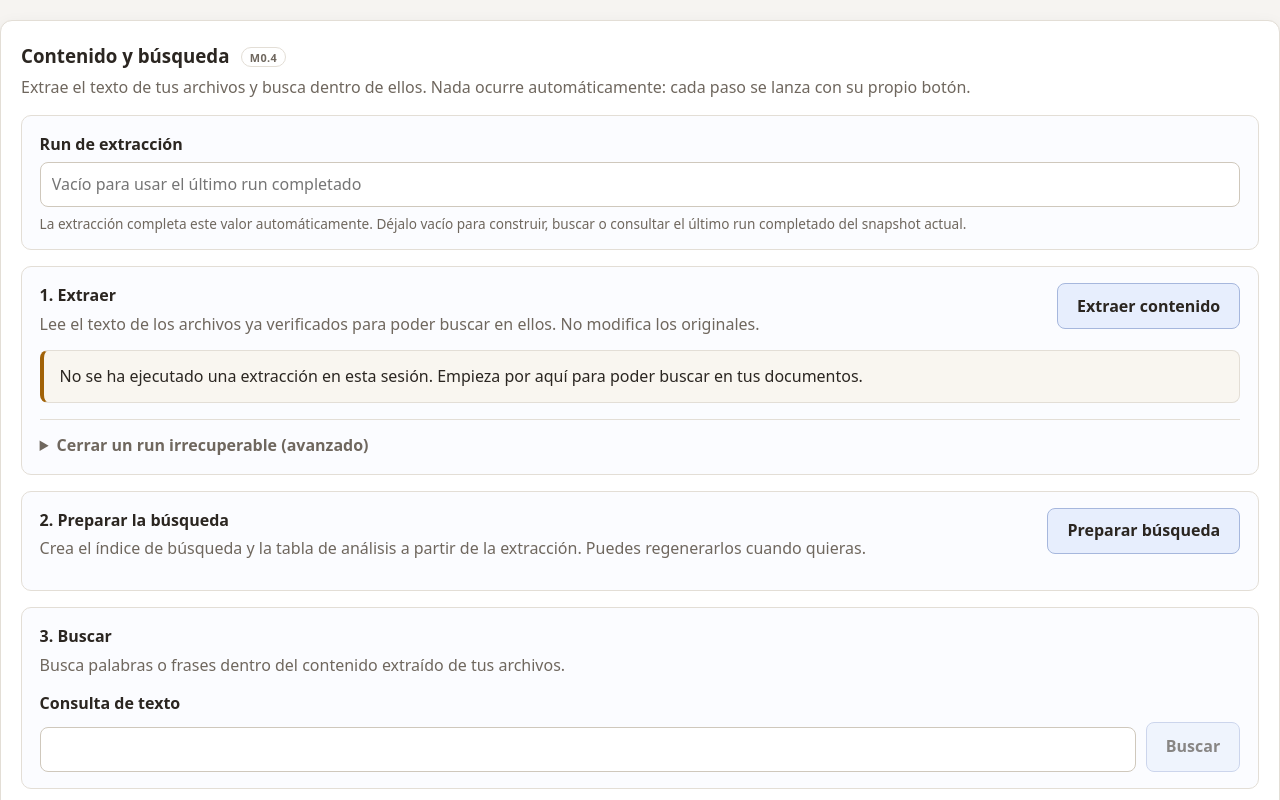
Test: ContentIntelligenceView › renders a clear facade error
Click the button "Extraer contenido": (1149, 306) 1057,284 -> 1240,330
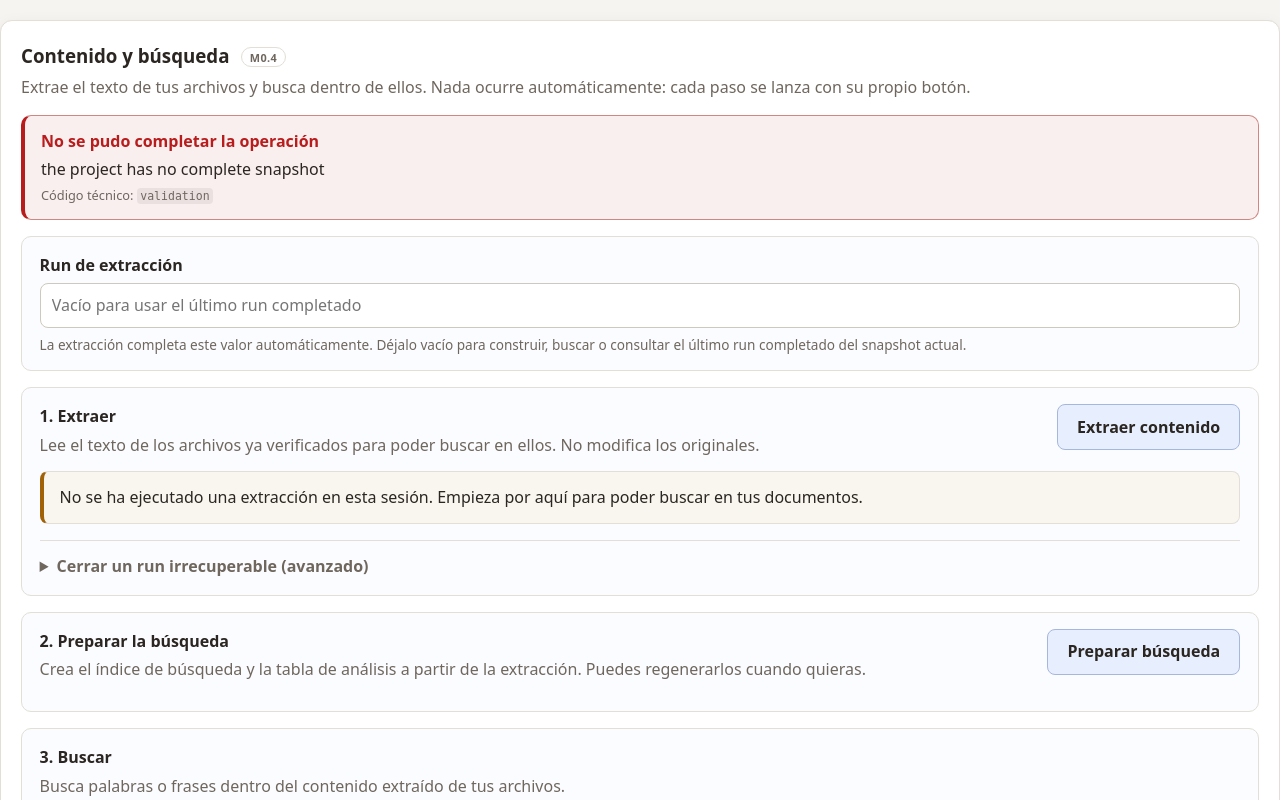
Check: the message that starts with "No se pudo completar la operación" shows "validation", box 140,189 -> 210,203
Check: the message that starts with "No se pudo completar la operación" shows "the project has no complete snapshot", box 41,158 -> 324,180
